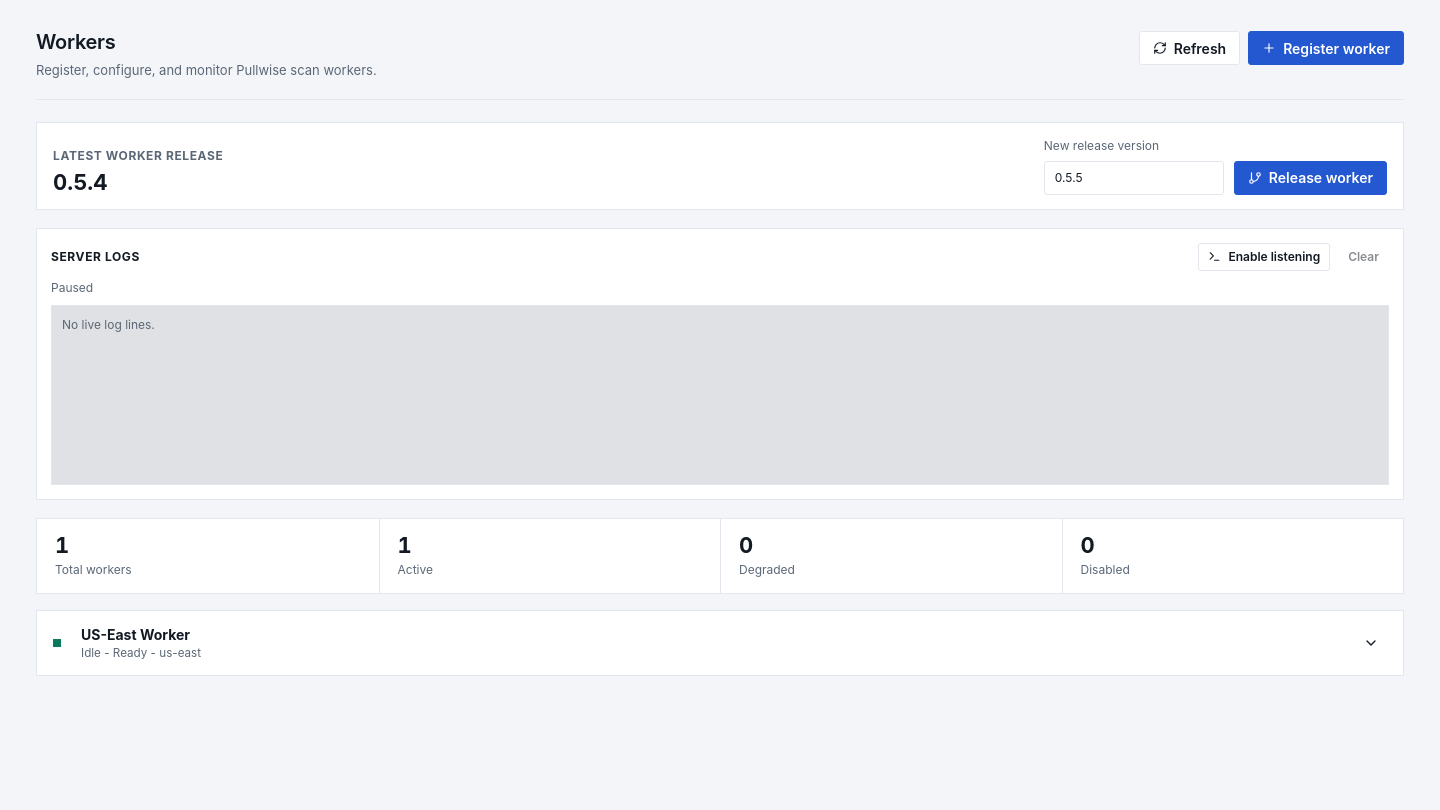
Scenario: WorkersScreen › refreshes the latest worker release without using the server cache
The image size is (1440, 810).
Expected: the text "0.5.4" is shown, [53,169,108,195]
Click the button "Refresh" at (1189, 48), box [1139,31,1240,65]
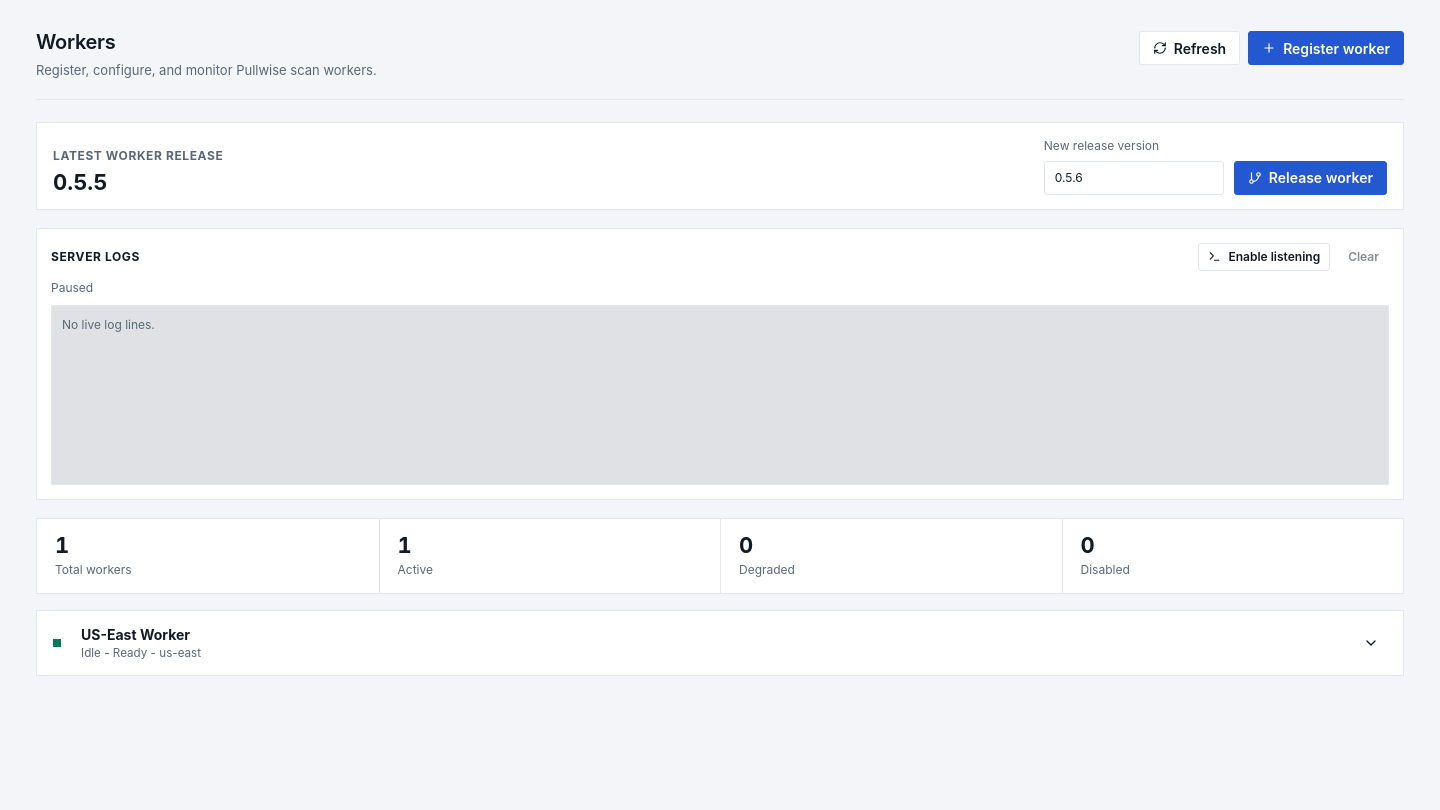
Expected: the field labelled "New release version" holds "0.5.6", [1044,160,1224,194]
Result: the text "0.5.5" is shown at [53,169,108,195]
